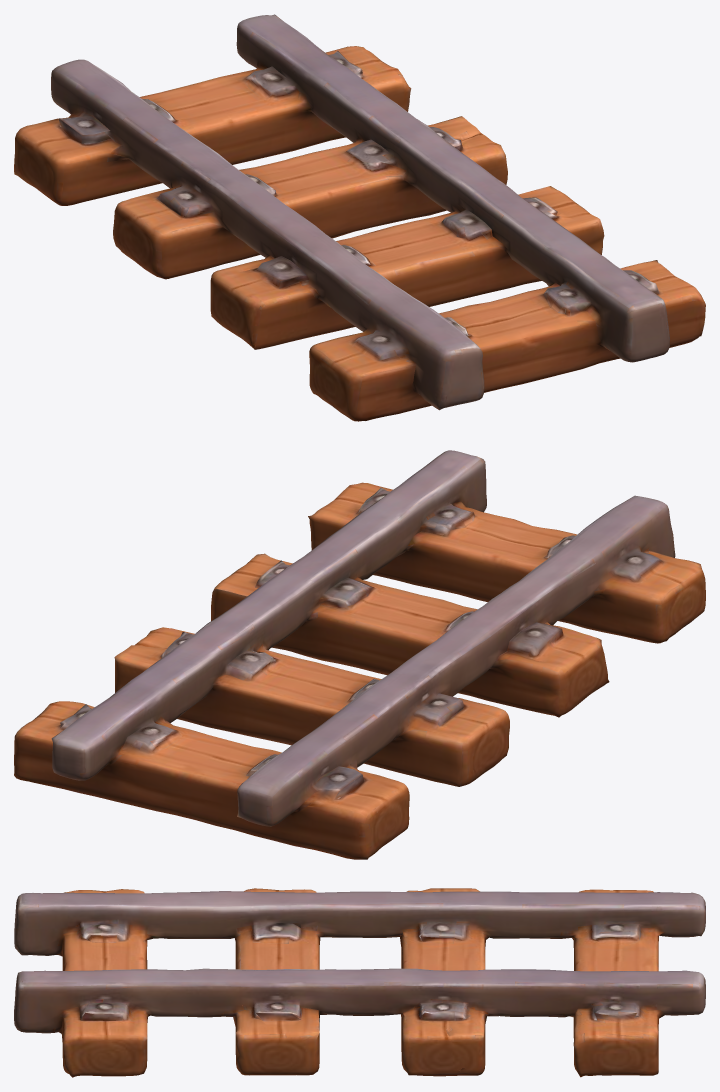
File: mine-rail-1m.glb
3 views of the same model, one above another, from view 1: azimuth 30°, elevation 25°; view 2: azimuth 150°, elevation 25°; view 3: azimuth 270°, elevation 25° (orthographic). The views are drawn at different scales.
Visible parts, largest first — view 1: tripo_node_24afedfe-2bb9-48c9-9a0c-341237889244; view 2: tripo_node_24afedfe-2bb9-48c9-9a0c-341237889244; view 3: tripo_node_24afedfe-2bb9-48c9-9a0c-341237889244.
Part boxes in pixels (bbox=[...]): tripo_node_24afedfe-2bb9-48c9-9a0c-341237889244: bbox=[14, 14, 705, 421]; tripo_node_24afedfe-2bb9-48c9-9a0c-341237889244: bbox=[14, 450, 705, 859]; tripo_node_24afedfe-2bb9-48c9-9a0c-341237889244: bbox=[14, 888, 705, 1077].
Size of the model in its own units: 0.5118 by 0.1067 by 0.9992.
1 material, 1 textured.
